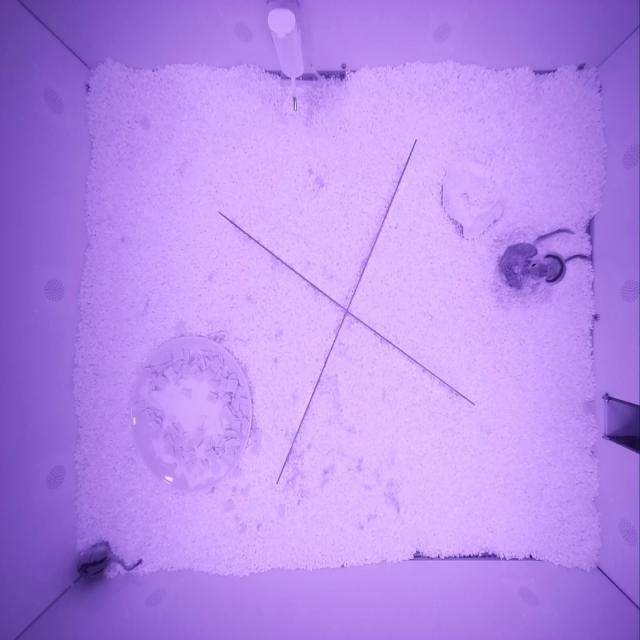adult_back: (497, 241, 538, 290)
adult_front: (524, 252, 568, 287)
pup_v_stripe: (76, 542, 111, 578)
